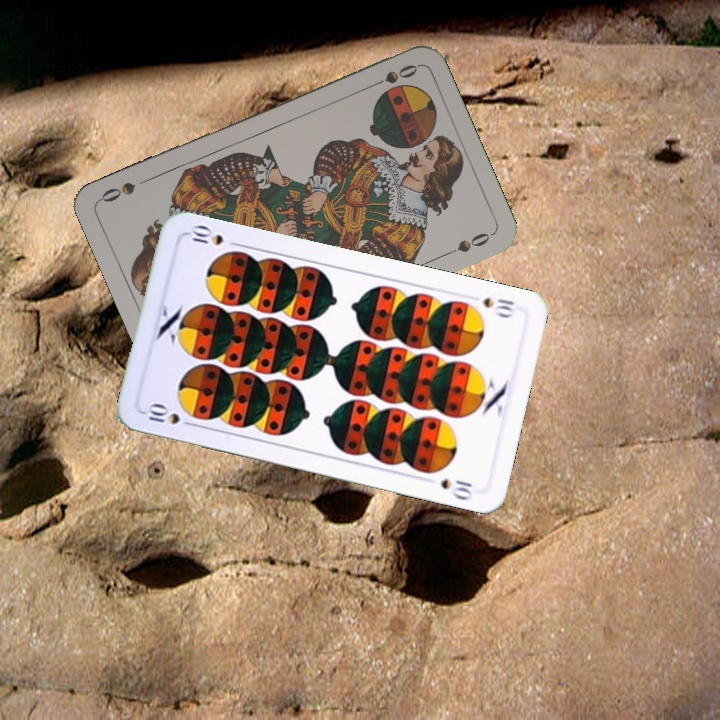S10: (144, 400, 198, 430), (478, 293, 518, 320)
SO: (364, 60, 421, 92)
